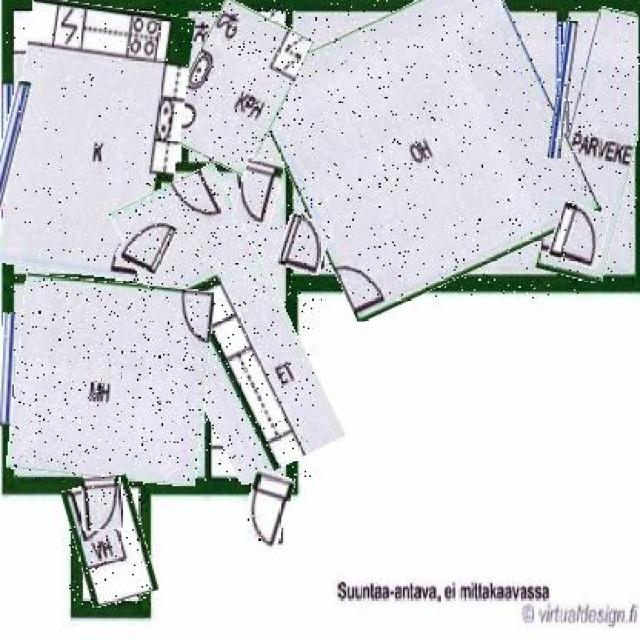door: (242, 472, 290, 552), (552, 205, 608, 266), (237, 155, 280, 228), (120, 214, 174, 271), (280, 217, 329, 274), (83, 475, 123, 531)
window: (0, 80, 23, 225), (552, 18, 574, 158), (0, 312, 14, 426)
zone: (268, 0, 580, 300), (140, 168, 315, 480), (6, 2, 186, 278), (11, 277, 209, 481), (551, 8, 640, 282), (174, 3, 300, 171), (70, 478, 152, 604)
